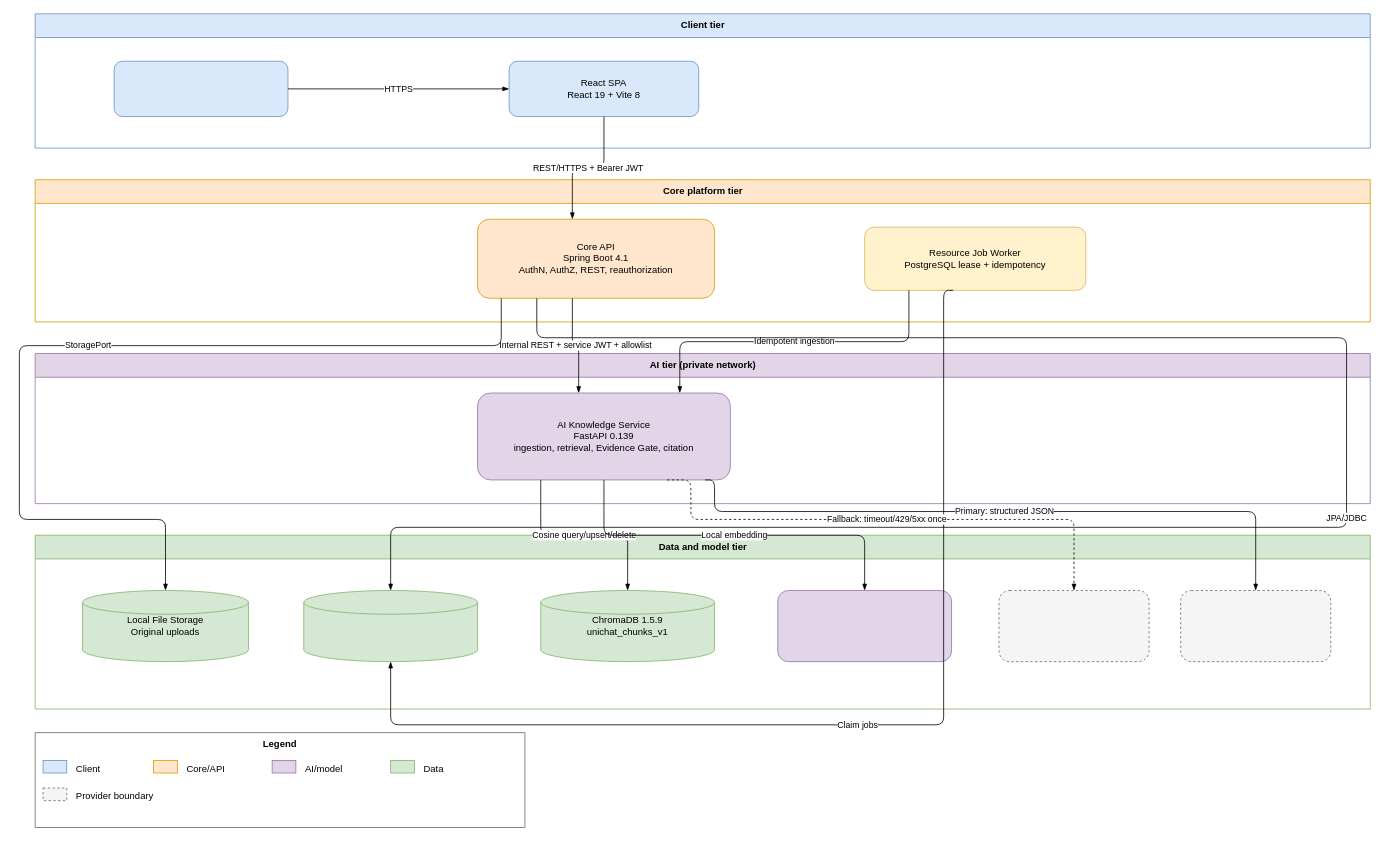
Image size: 1384x841. Some labels were removed from this diagram. Each missing label, with the centre of its shape:
"Browser Người dùng đã xác thực" belongs at point (200, 88).
"Gemini 3.5 Flash Primary cloud provider" belongs at point (1255, 626).
"multilingual-e5-base 768d, frozen revision" belongs at point (864, 626).
"Ollama 0.31.2 Fallback cục bộ" belongs at point (1073, 626).
"PostgreSQL 18.4 Business data + jobs" belongs at point (390, 626).
